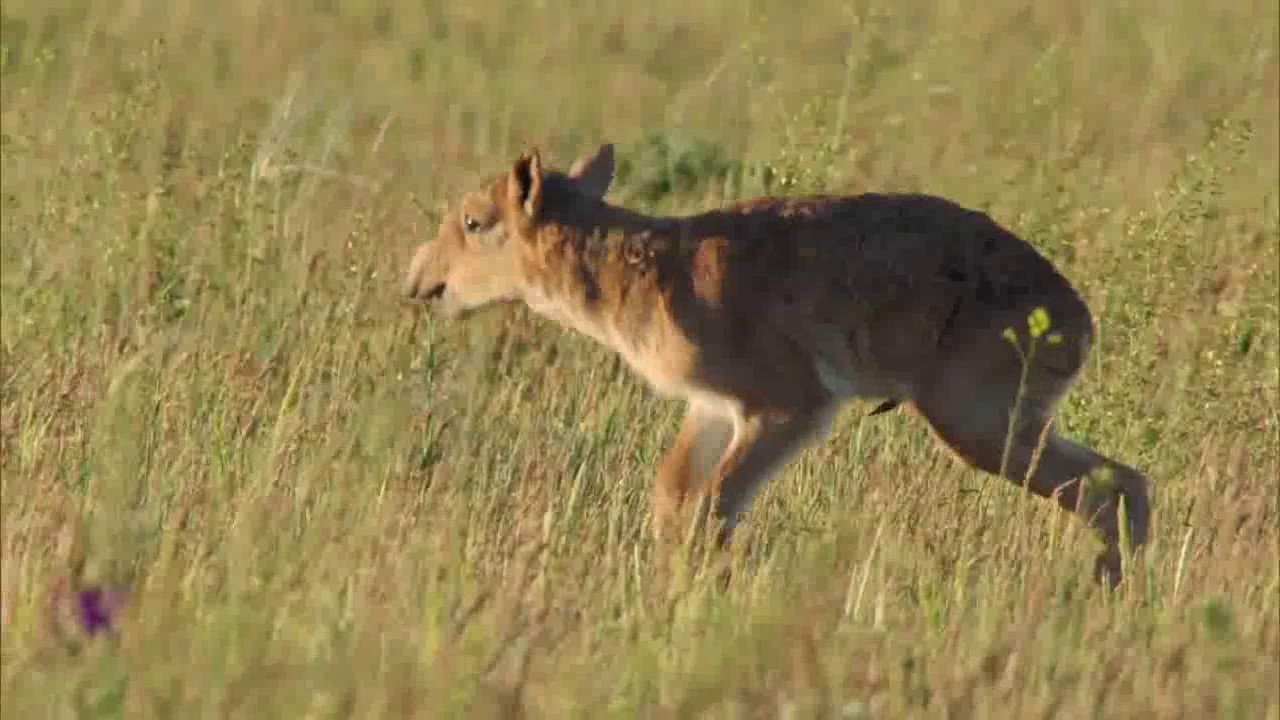saiga: (401, 139, 1156, 603)
